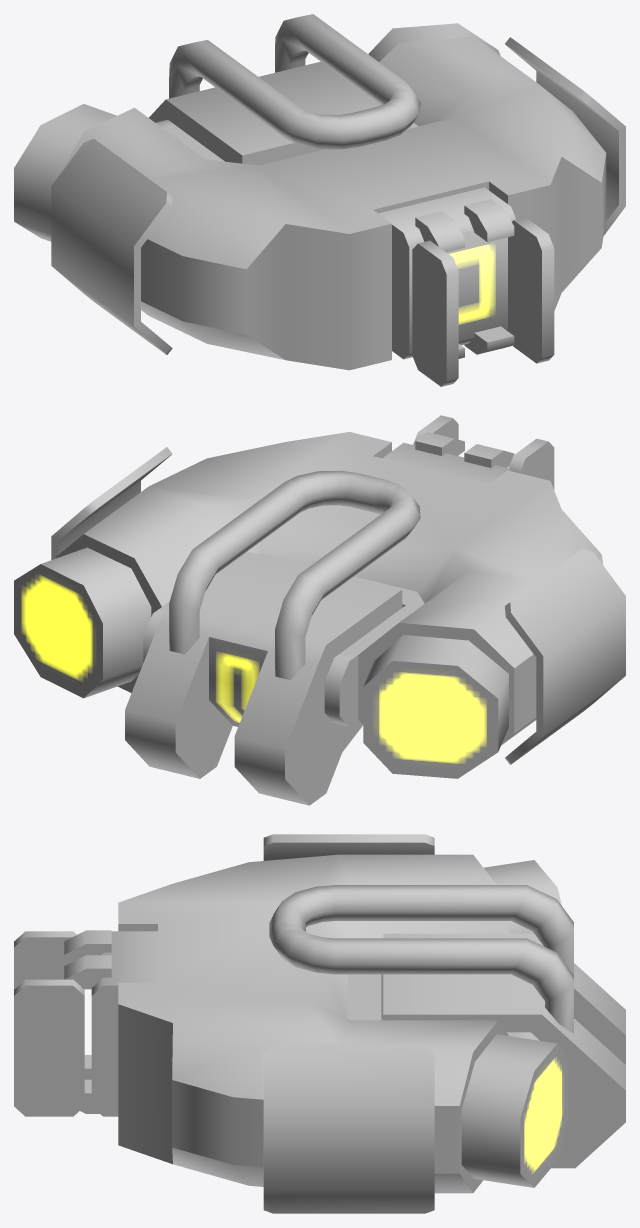
File: Enemy_Deminer.gltf
3 views of the same model, one above another, from view 1: azimuth 30°, elevation 25°; view 2: azimuth 150°, elevation 25°; view 3: azimuth 270°, elevation 25° (orthographic). The views are drawn at different scales.
Visible parts, largest first — view 1: imported_Meshes; view 2: imported_Meshes; view 3: imported_Meshes.
Part boxes in pixels (box(x1,y1,x2,y2)): imported_Meshes: box(14, 14, 625, 386); imported_Meshes: box(14, 415, 625, 805); imported_Meshes: box(14, 834, 625, 1213).
Size of the model in its own units: 0.2623 by 0.1044 by 0.2726.
